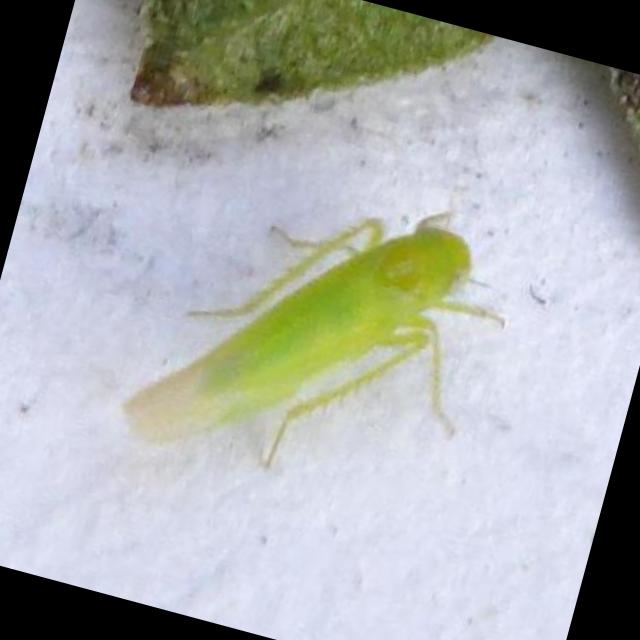green-leafhopper: (123, 152, 506, 518)
